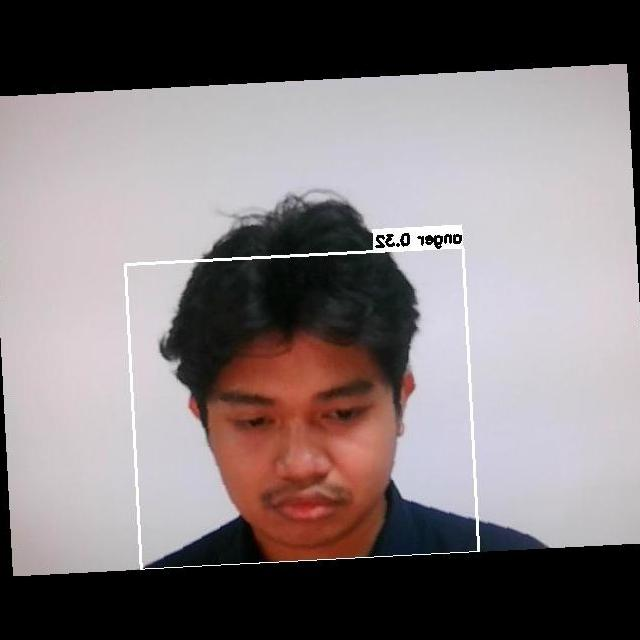Natural: (204, 377, 419, 528)
